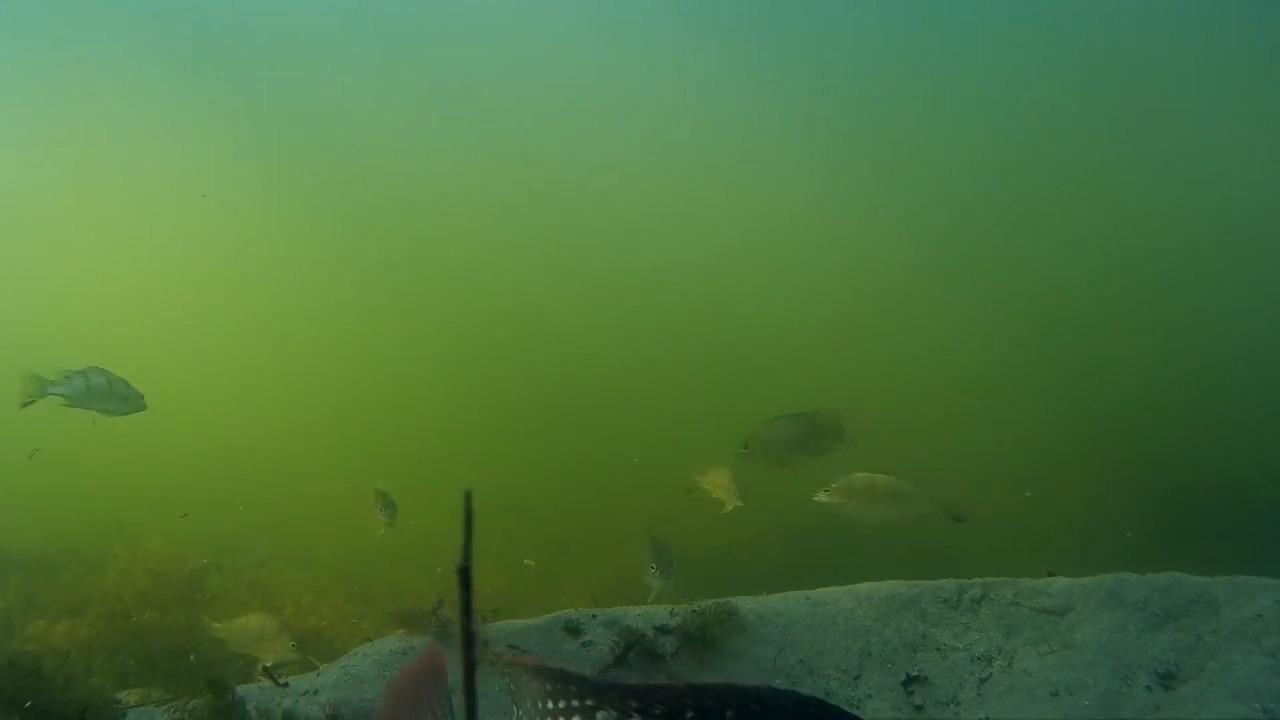Tilapia: (345, 646, 866, 720), (812, 464, 979, 538), (17, 350, 155, 426), (723, 392, 852, 470), (197, 600, 310, 668), (680, 454, 765, 526), (620, 538, 705, 608), (361, 486, 412, 542)
